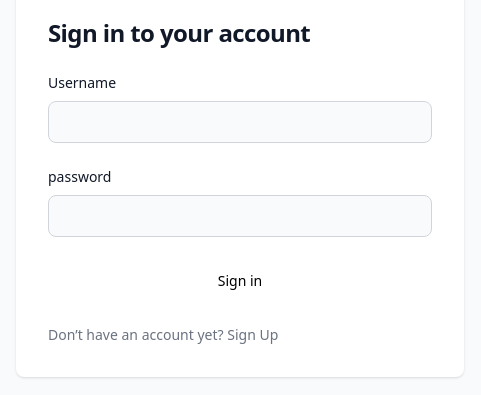
Test case: <Login /> › Login redirects to register properly
The width and height of the screenshot is (481, 395).
Click the link "Sign Up" at [253, 334], box [227,325,278,344]
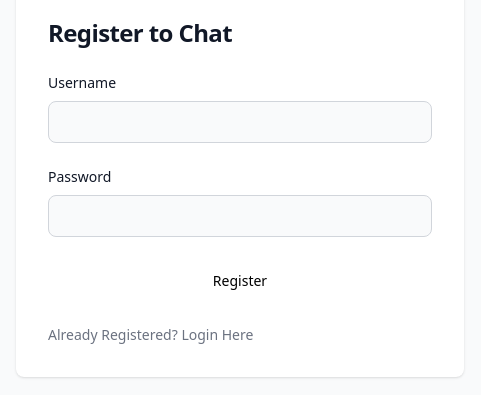
Check: the heading "Register to Chat" is shown, box [48,16,232,49]
